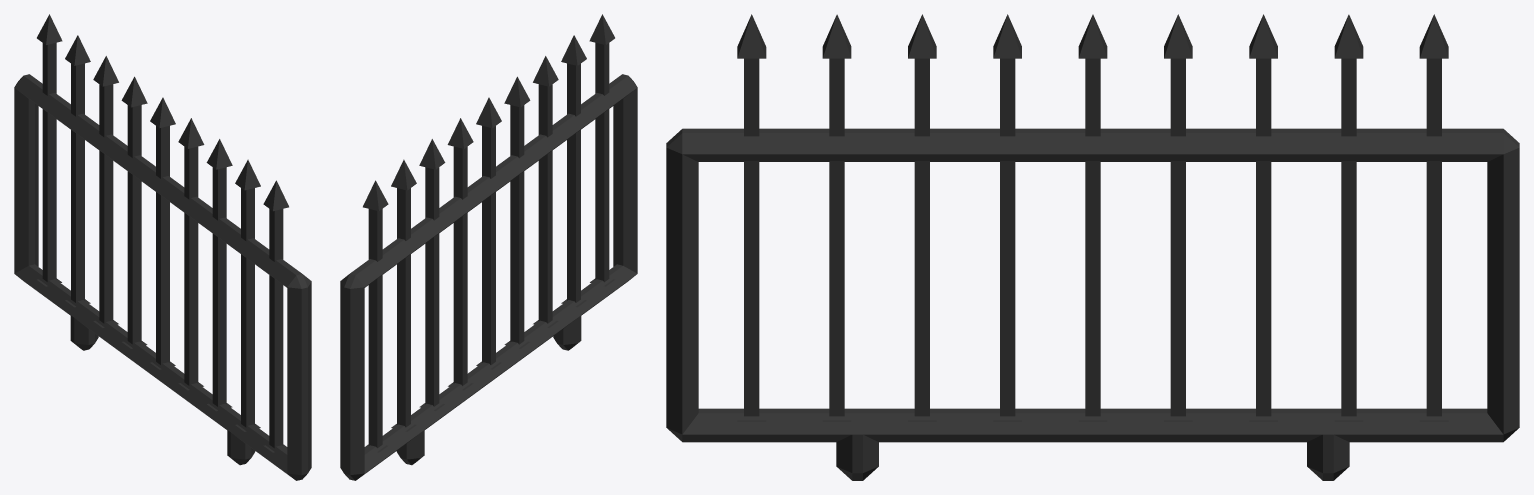
The model's file is Mod_Fence.fbx.
The picture shows the model from 3 angles, left to right: view 1: azimuth 30°, elevation 25°; view 2: azimuth 150°, elevation 25°; view 3: azimuth 270°, elevation 25°; orthographic projection. The views are drawn at different scales.
Visible parts, largest first — view 1: Mod_Fence; view 2: Mod_Fence; view 3: Mod_Fence.
Boxes of the visible parts, x1,y1,x2,y2 form: Mod_Fence: (14,14,311,480); Mod_Fence: (340,14,637,480); Mod_Fence: (666,14,1519,480).
Bounding box in the file's own units: 10 × 120 × 200.
